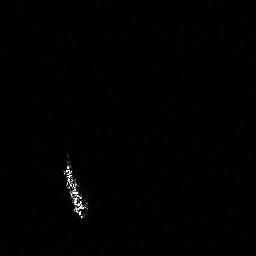ship: (60, 154, 92, 219)
